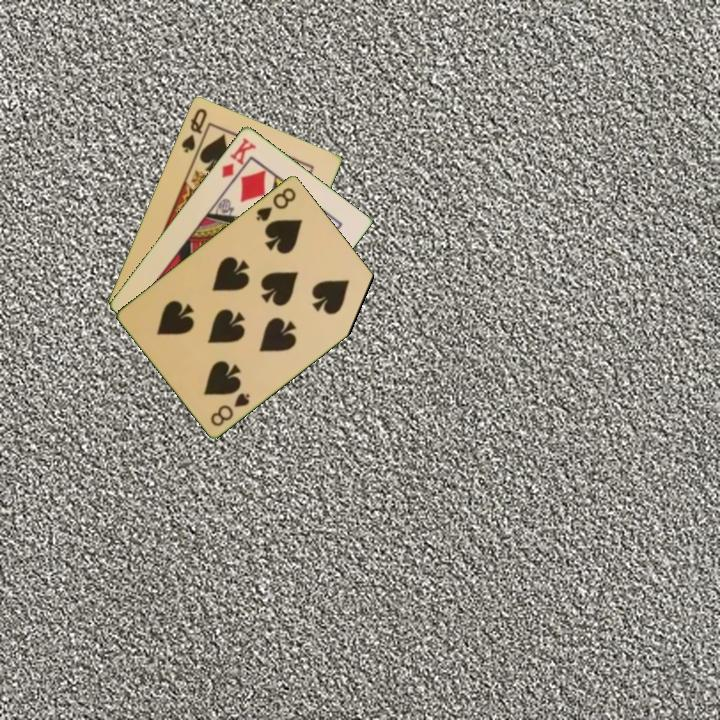8s: (252, 183, 299, 224), (207, 389, 253, 429)
Kd: (218, 134, 259, 180)
Qs: (178, 104, 210, 155)
